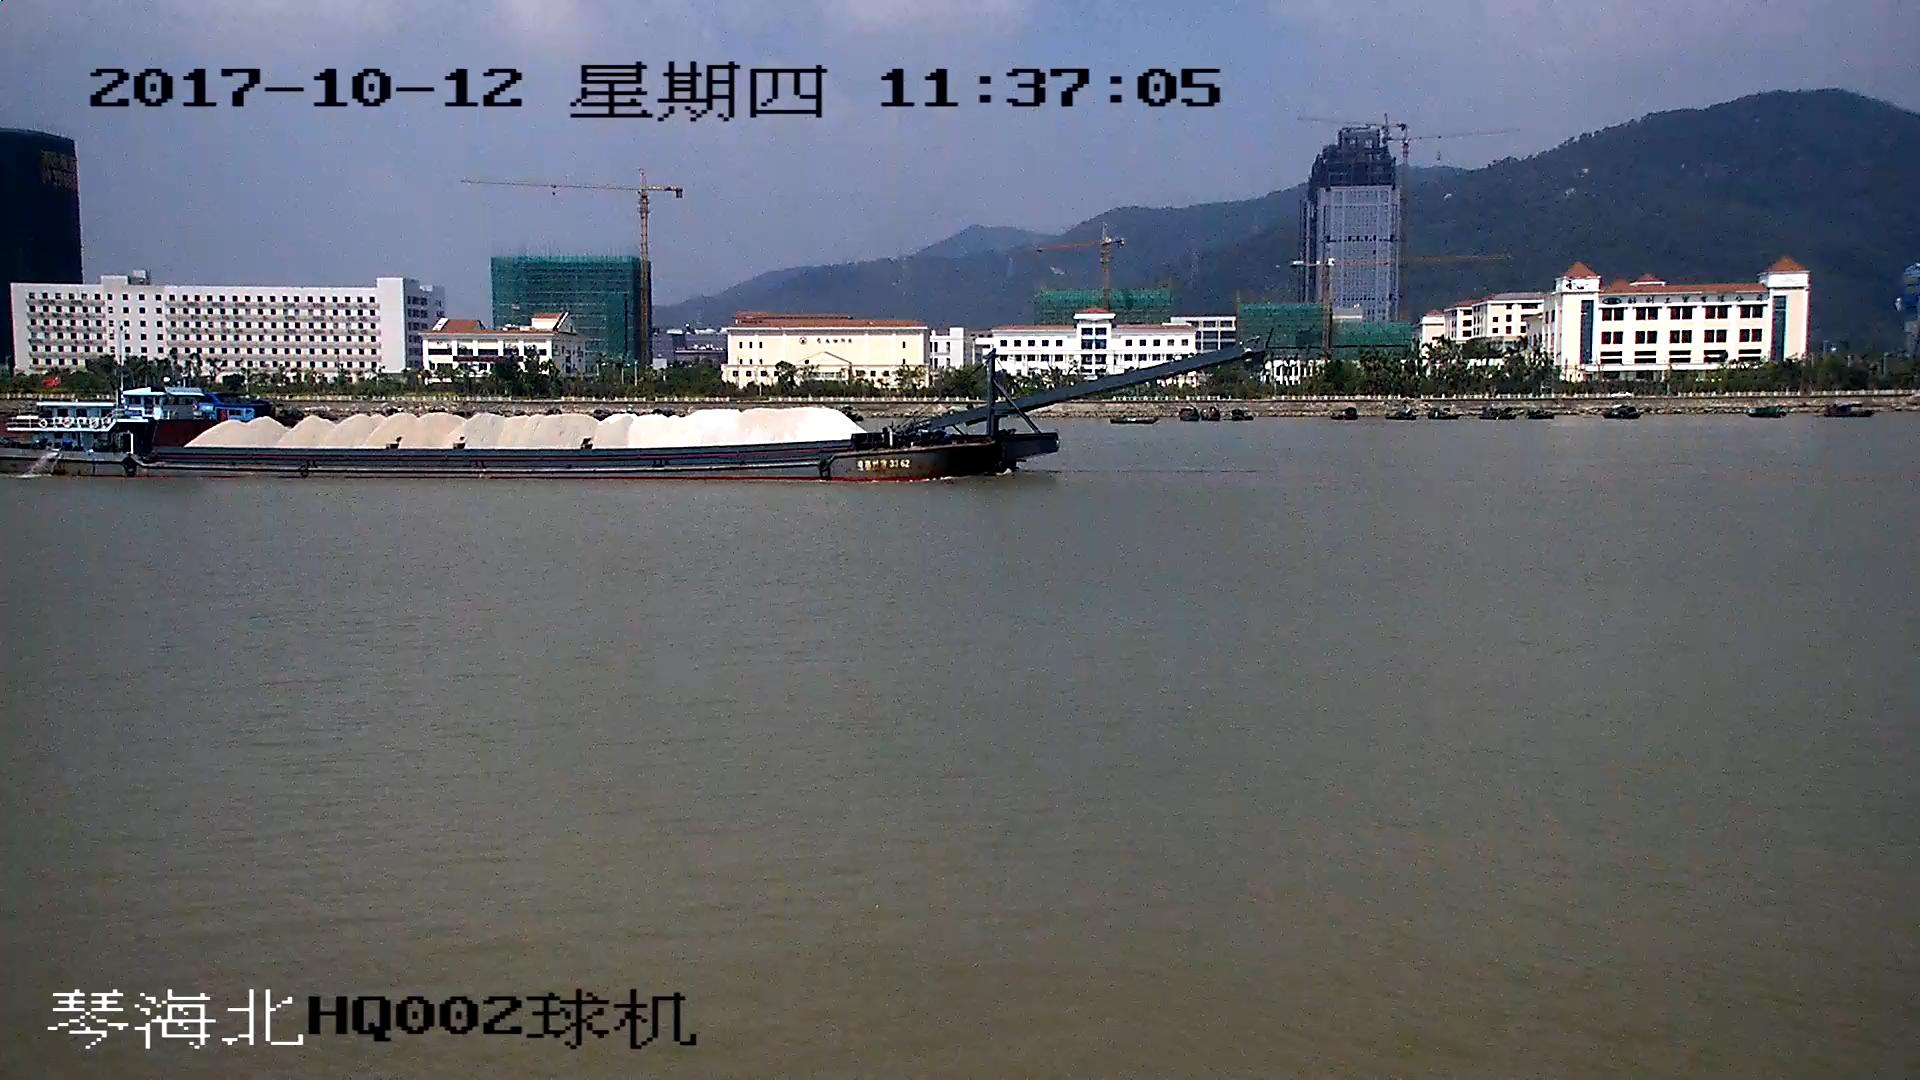ore carrier: (1, 345, 1242, 483)
